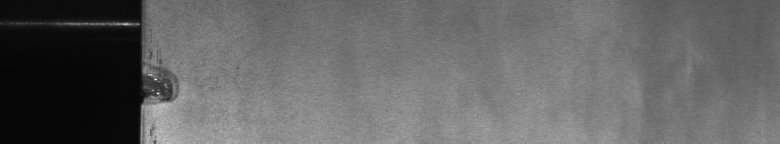hb: (152, 52, 180, 109)
